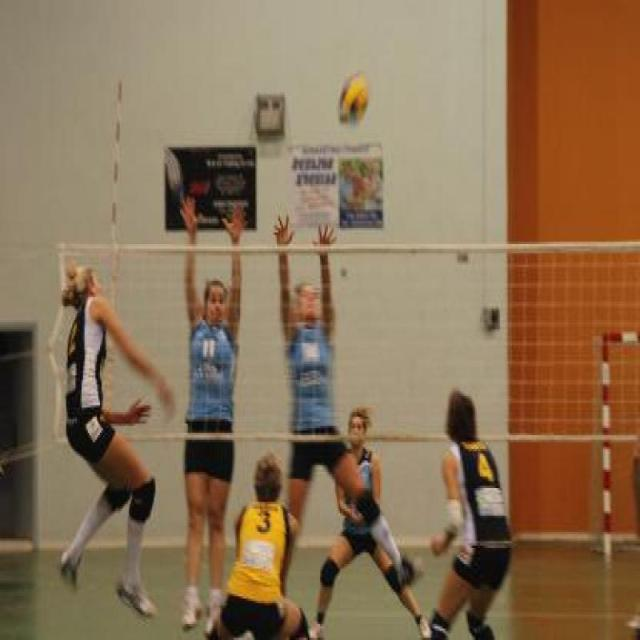volleyball: (338, 66, 372, 120)
